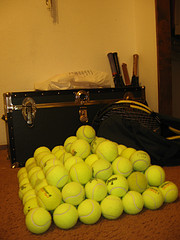tennis ball: (52, 204, 80, 230), (27, 207, 53, 234), (78, 199, 104, 225), (84, 176, 108, 202), (105, 173, 130, 197), (37, 185, 63, 208), (61, 181, 85, 205), (121, 190, 144, 215), (102, 196, 125, 220), (45, 165, 70, 187), (129, 150, 152, 172), (142, 187, 164, 210), (159, 180, 179, 205), (127, 170, 149, 192), (143, 165, 166, 186), (69, 162, 92, 182), (98, 140, 119, 161), (75, 123, 97, 143), (70, 140, 91, 159), (29, 170, 46, 186), (33, 145, 52, 159)
